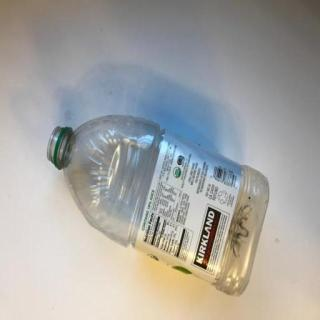Anorganik: (40, 109, 272, 299)
